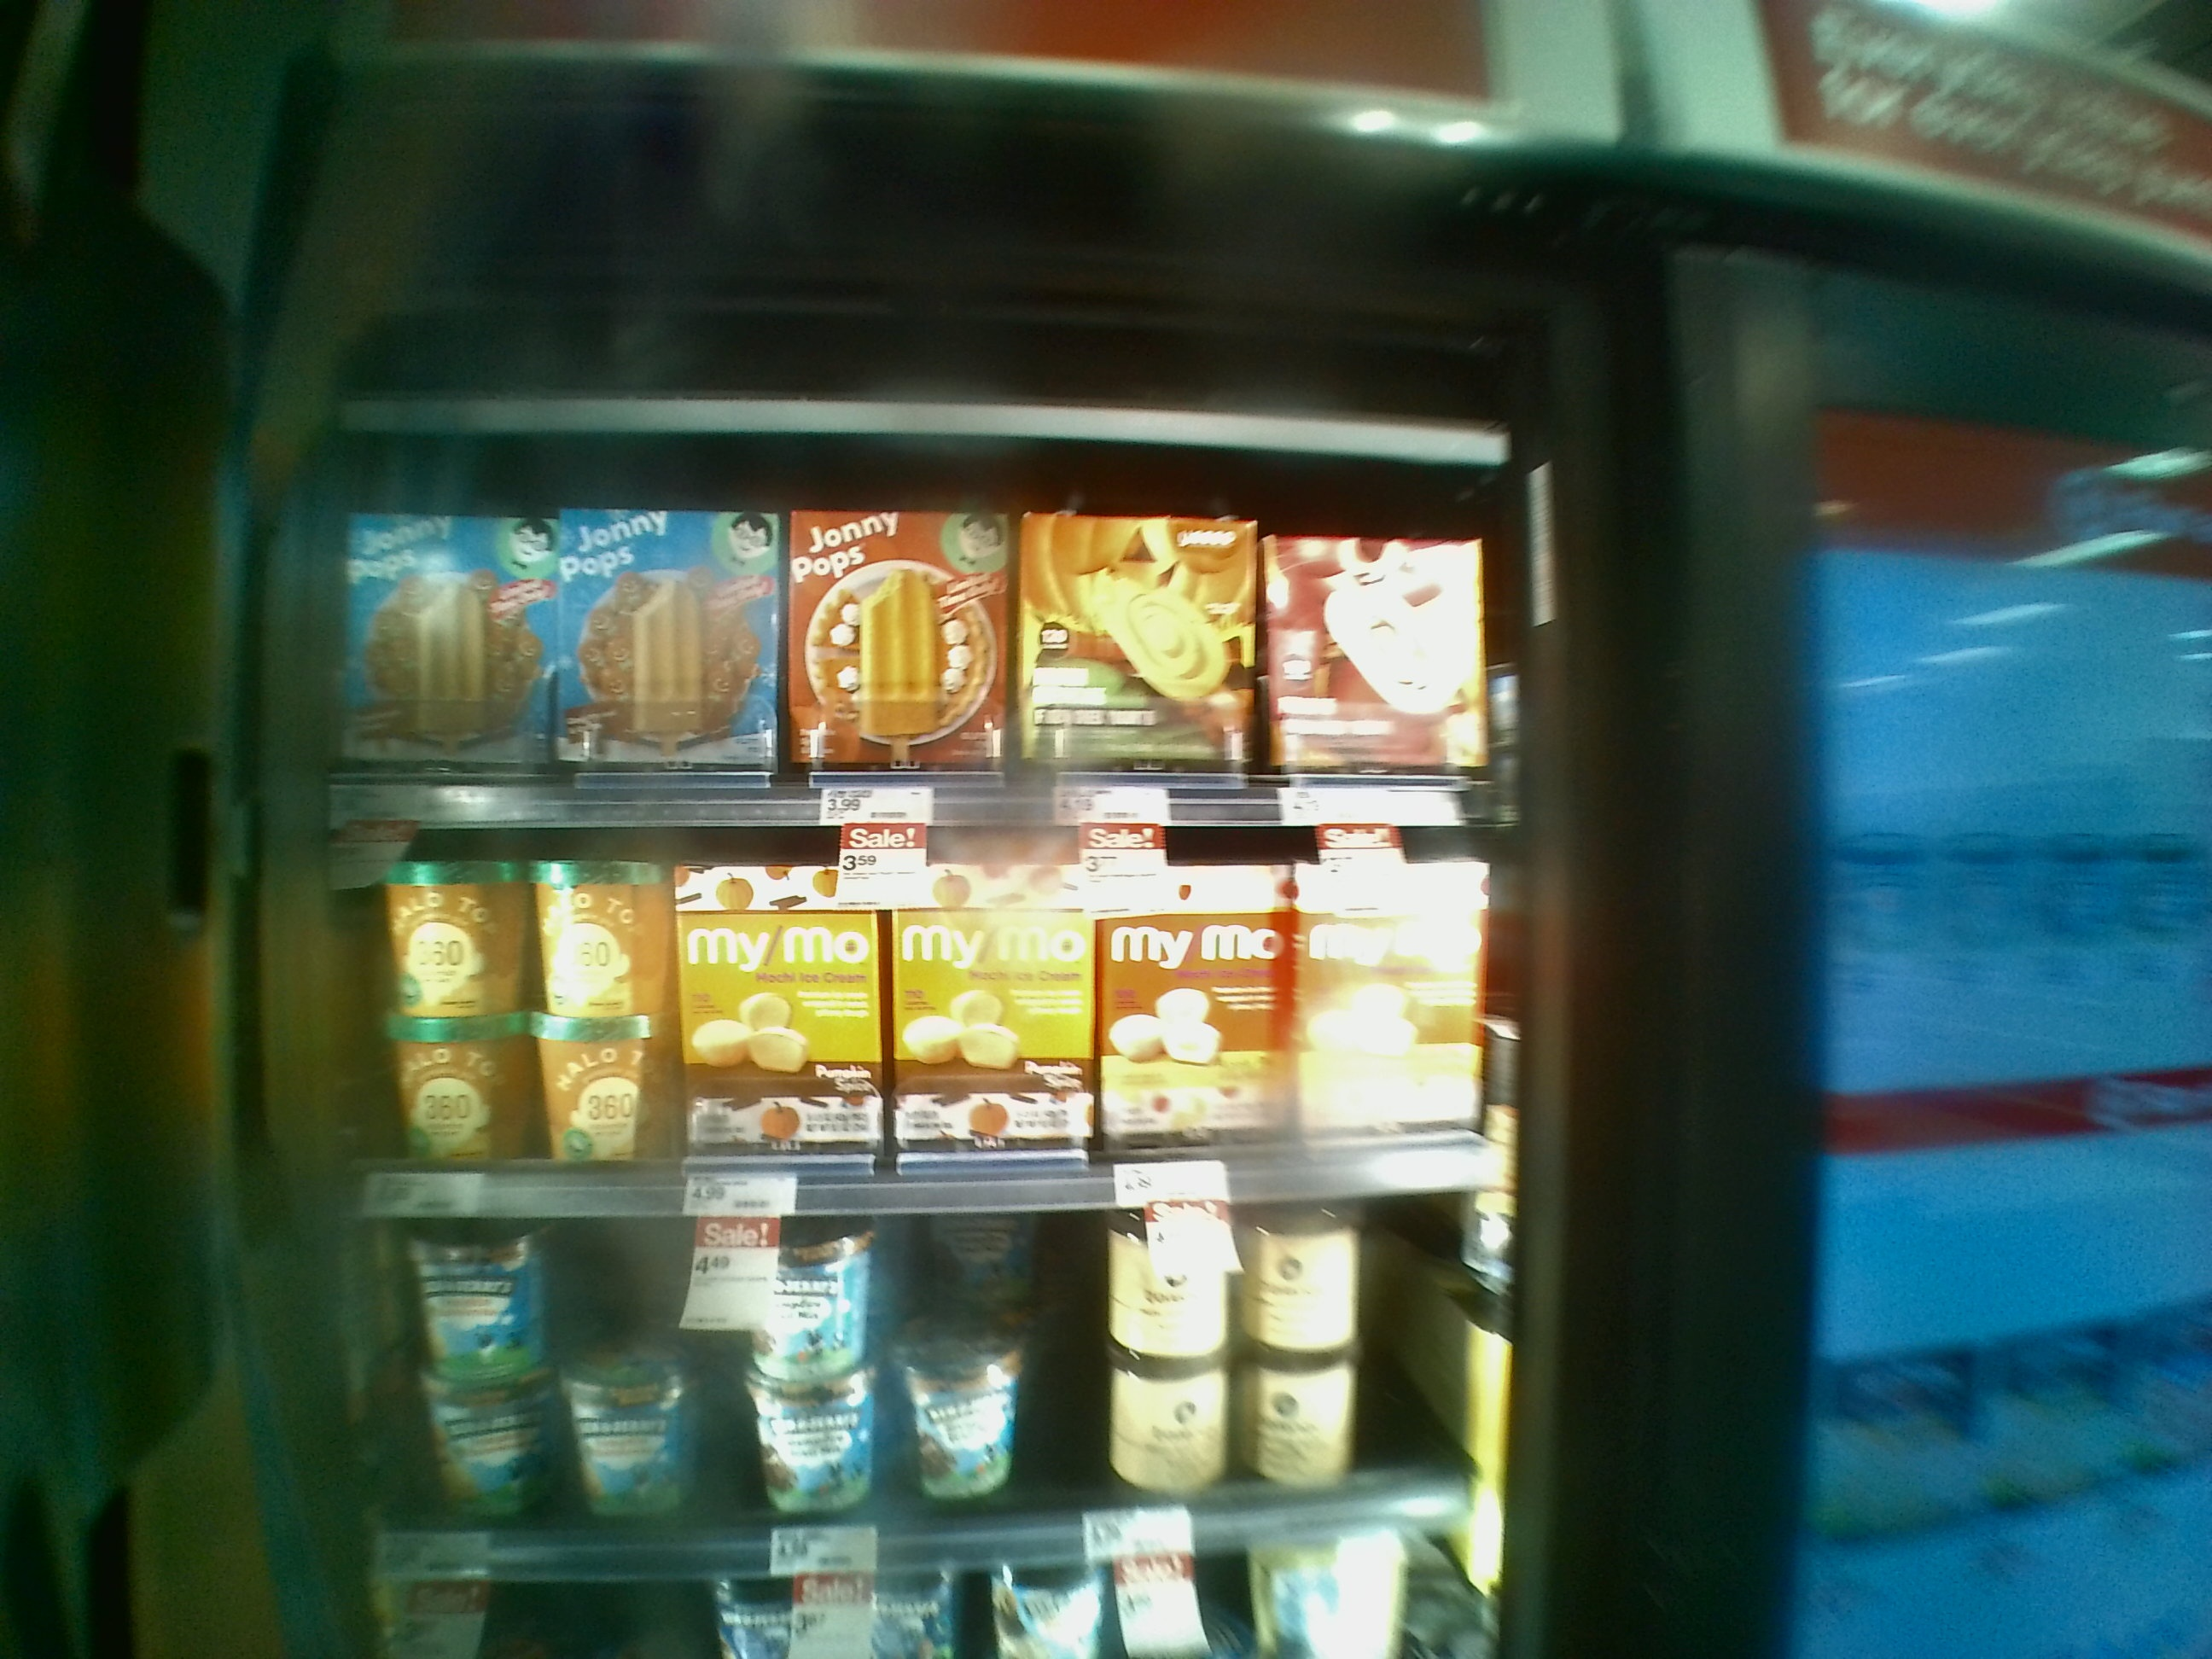shelf: (301, 448, 1514, 828), (298, 828, 1503, 1208), (291, 1209, 1503, 1551)
